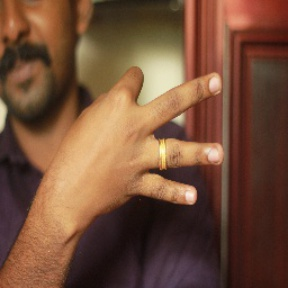K: (44, 67, 225, 219)
